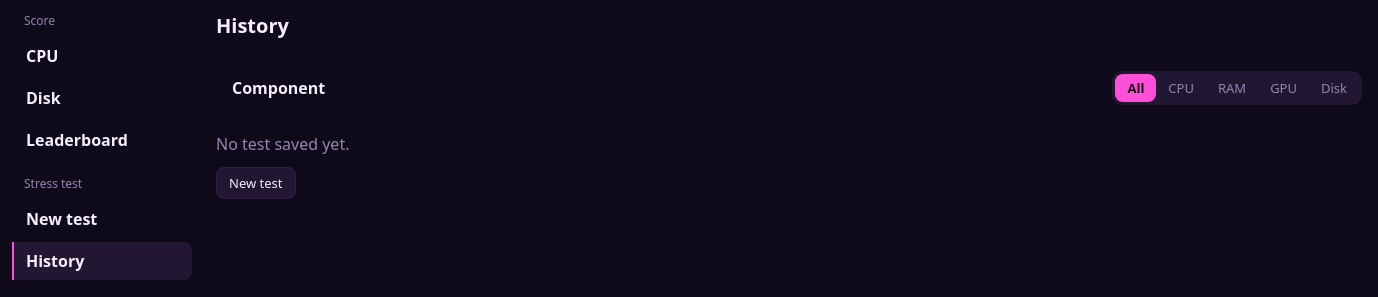
Test: board_entry_opens_the_board_page
Step 1. Click the button "Leaderboard" → (102, 140), box 12,121 -> 192,159
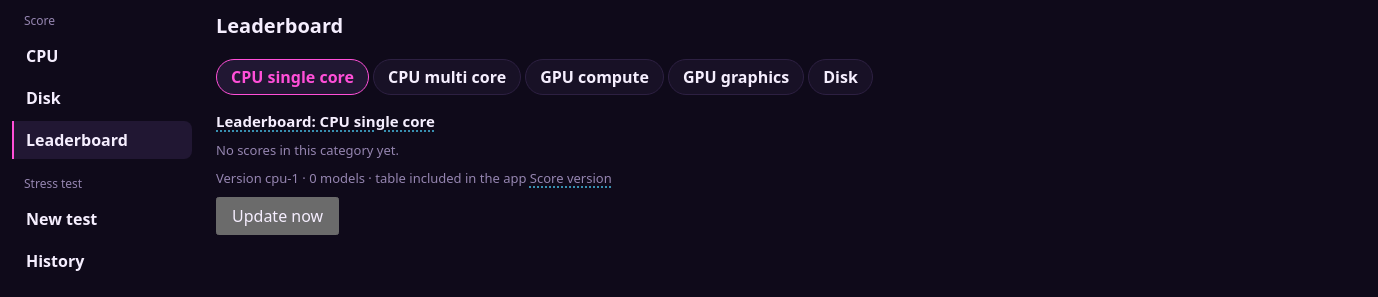
Expected: the heading "Leaderboard" is shown, 216,12 -> 343,39
Expected: the element named "Leaderboard category" is shown, 216,59 -> 873,95
